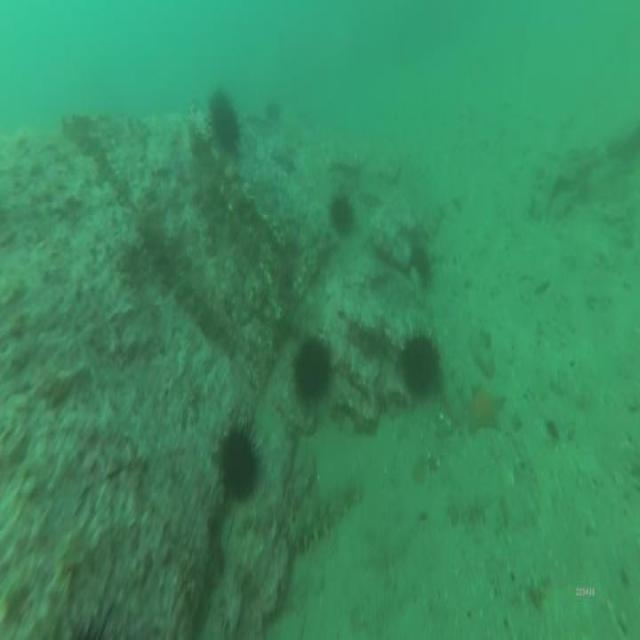echinus: (216, 427, 261, 499), (292, 336, 332, 402), (400, 335, 441, 397), (209, 92, 243, 153), (330, 194, 353, 236), (409, 247, 432, 286)
holothurian: (284, 481, 372, 548), (447, 496, 492, 534)
starfish: (463, 379, 505, 430)
